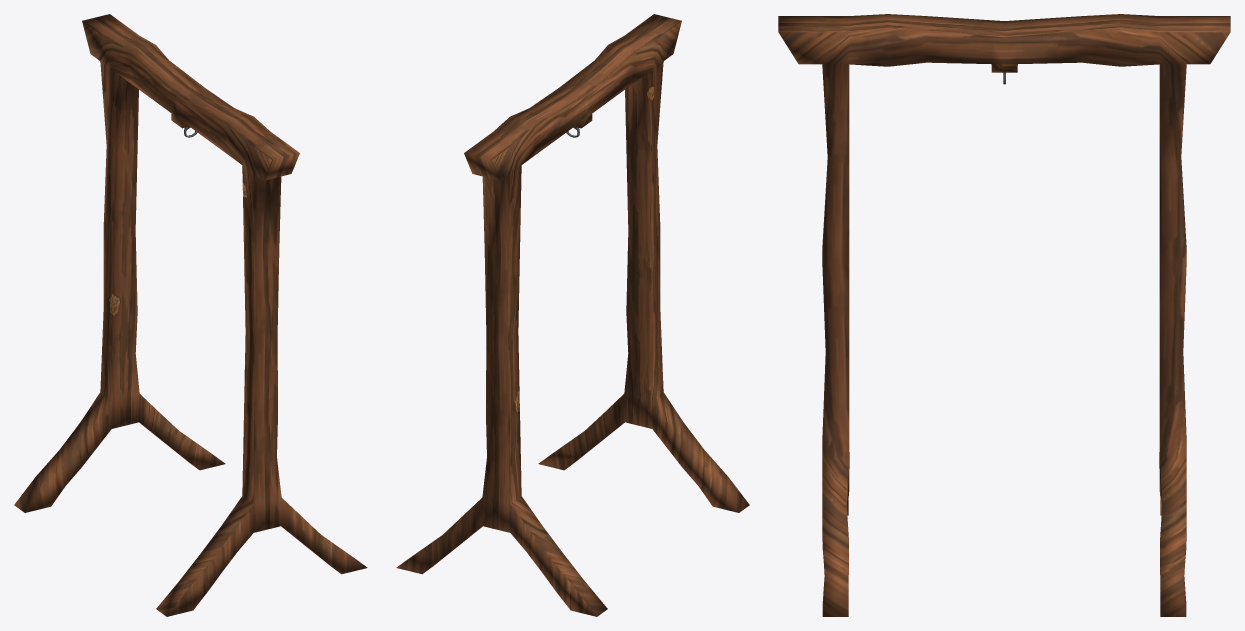
File: Wood.fbx
The picture shows the model from 3 angles, left to right: view 1: azimuth 30°, elevation 25°; view 2: azimuth 150°, elevation 25°; view 3: azimuth 270°, elevation 25°; orthographic projection. The views are drawn at different scales.
Parts seen in each view (by area): view 1: Cube; view 2: Cube; view 3: Cube.
Boxes of the visible parts, x1,y1,x2,y2 form: Cube: (14,14,367,616); Cube: (396,14,749,616); Cube: (778,14,1230,616).
Bounding box in the file's own units: 293 × 629 × 479.
